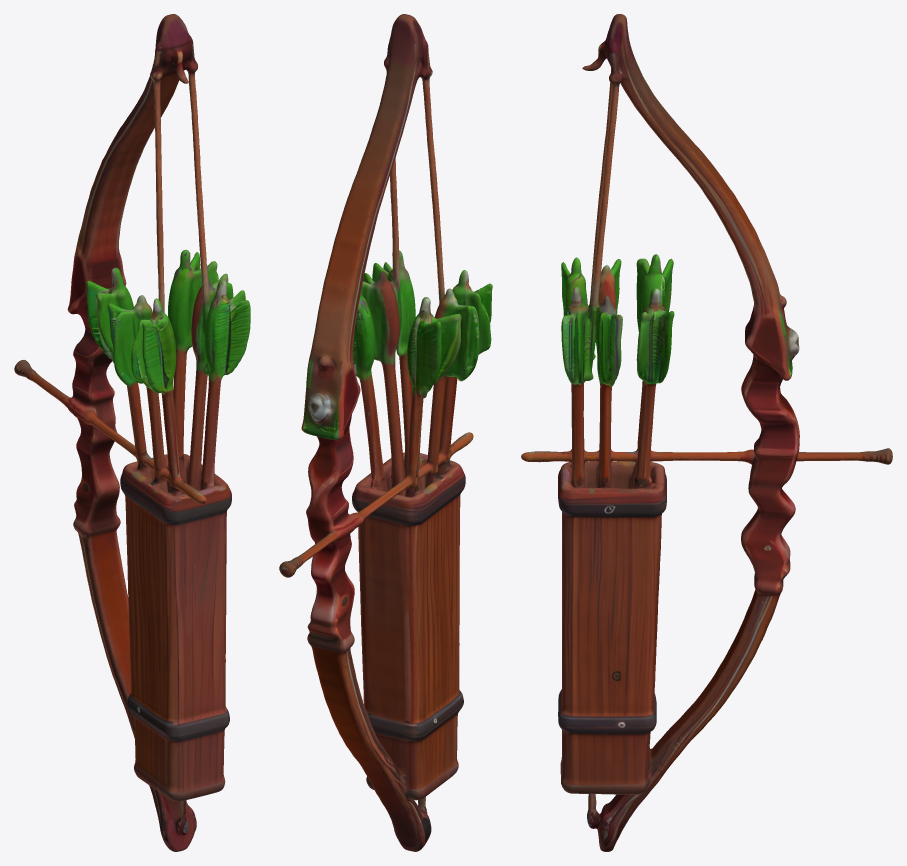
Rendered from bow_and_arrow.glb.
3 renders of one model, left to right at view 1: azimuth 30°, elevation 25°; view 2: azimuth 150°, elevation 25°; view 3: azimuth 270°, elevation 25°, orthographic.
Parts seen in each view (by area): view 1: tripo_node_5a3cf85a-f1a2-40f0-bf77-4c3bb233d697; view 2: tripo_node_5a3cf85a-f1a2-40f0-bf77-4c3bb233d697; view 3: tripo_node_5a3cf85a-f1a2-40f0-bf77-4c3bb233d697.
Boxes of the visible parts, left/top/right/bottom form: tripo_node_5a3cf85a-f1a2-40f0-bf77-4c3bb233d697: left=14, top=14, right=250, bottom=851; tripo_node_5a3cf85a-f1a2-40f0-bf77-4c3bb233d697: left=279, top=14, right=492, bottom=851; tripo_node_5a3cf85a-f1a2-40f0-bf77-4c3bb233d697: left=521, top=14, right=892, bottom=851.
Size of the model in its own units: 0.1467 by 0.949 by 0.3832.
Materials: 1 (1 with a texture image).
